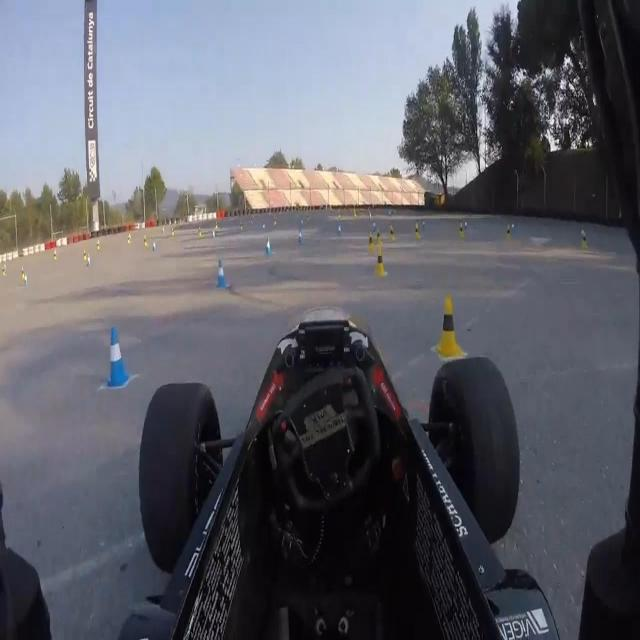blue_cone: (104, 324, 131, 390), (214, 257, 231, 295), (264, 235, 274, 258), (297, 227, 305, 248), (336, 222, 344, 238), (152, 240, 157, 254), (24, 273, 28, 287), (87, 254, 91, 268), (212, 228, 216, 240), (373, 218, 376, 230)
yellow_cone: (433, 292, 466, 358), (376, 246, 386, 280), (368, 230, 376, 256), (582, 231, 589, 252), (414, 221, 421, 241), (376, 228, 383, 248), (390, 226, 395, 245), (506, 222, 511, 240), (460, 223, 465, 240), (20, 264, 24, 281), (53, 250, 58, 262), (83, 248, 87, 263), (96, 239, 100, 254), (3, 265, 7, 278), (198, 226, 202, 238), (171, 226, 175, 238)
